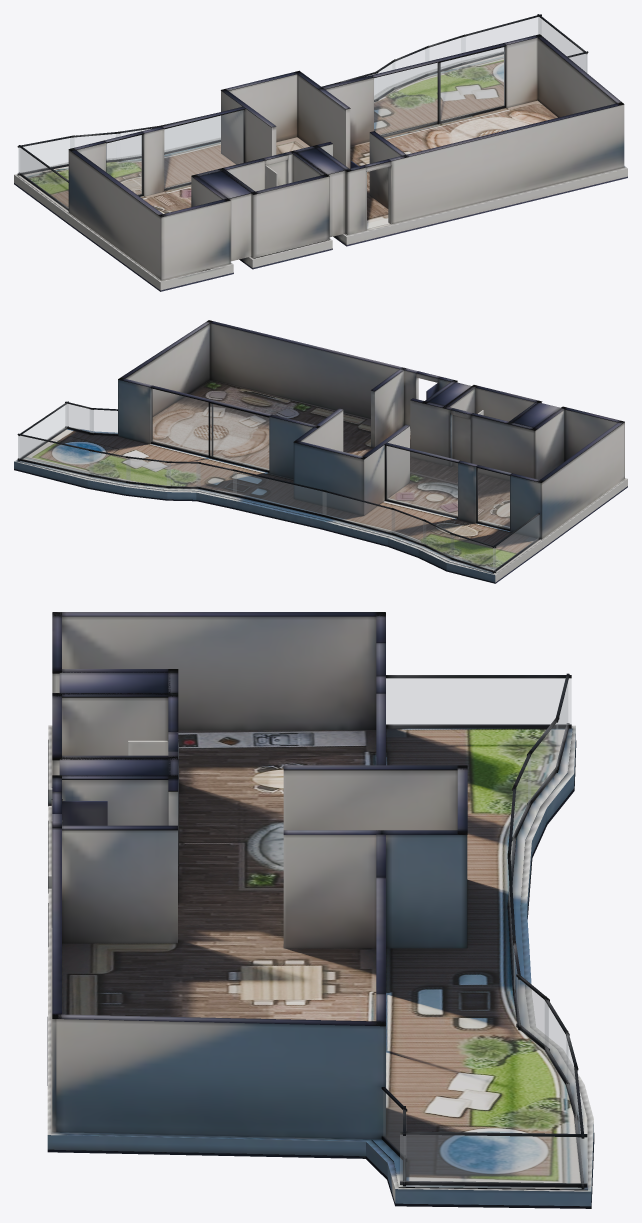
3 renders of one model, top to bottom at view 1: azimuth 30°, elevation 25°; view 2: azimuth 150°, elevation 25°; view 3: azimuth 270°, elevation 25°, orthographic. The views are drawn at different scales.
Parts seen in each view (by area): view 1: plan, glass2_m, glass1_m, glass0_m, railg3_m, railg9_m, railg12_m, railg13_m, railg2_m, railg4_m, railg5_m, railg11_m (+1 smaller); view 2: plan, glass2_m, glass1_m, railg8_m, railg3_m, glass0_m, railg9_m, railg13_m, railg2_m, railg5_m, railg12_m, railg4_m (+6 smaller); view 3: plan, railg2_m, railg13_m, railg6_m, railg11_m, railg5_m, railg0_m.
Boxes of the visible parts, x1,y1,x2,y2 form: plan: (14, 14, 627, 291); glass2_m: (374, 47, 504, 135); glass1_m: (164, 110, 243, 188); glass0_m: (106, 135, 142, 194); railg3_m: (461, 17, 540, 62); railg9_m: (165, 116, 220, 151); railg12_m: (18, 138, 73, 173); railg13_m: (19, 148, 68, 207); railg2_m: (538, 17, 586, 72); railg4_m: (425, 37, 464, 72); railg5_m: (392, 48, 428, 87); railg11_m: (70, 133, 120, 159); plan: (14, 320, 627, 583); glass2_m: (151, 389, 268, 470); glass1_m: (386, 446, 457, 516); railg8_m: (233, 471, 326, 514); railg3_m: (18, 436, 93, 474); glass0_m: (477, 468, 509, 528); railg9_m: (323, 492, 394, 533); railg13_m: (493, 515, 539, 570); railg2_m: (19, 404, 67, 458); railg5_m: (126, 458, 170, 486); railg12_m: (451, 535, 495, 570); railg4_m: (89, 451, 130, 481); plan: (47, 612, 594, 1208); railg2_m: (400, 1135, 586, 1183); railg13_m: (386, 678, 571, 724); railg6_m: (517, 978, 548, 1048); railg11_m: (528, 723, 557, 802); railg5_m: (545, 1002, 567, 1081); railg0_m: (383, 1091, 405, 1157).
Size of the model in its own units: 19.88 by 2.62 by 9.85.
Materials: 2 (1 with a texture image).
